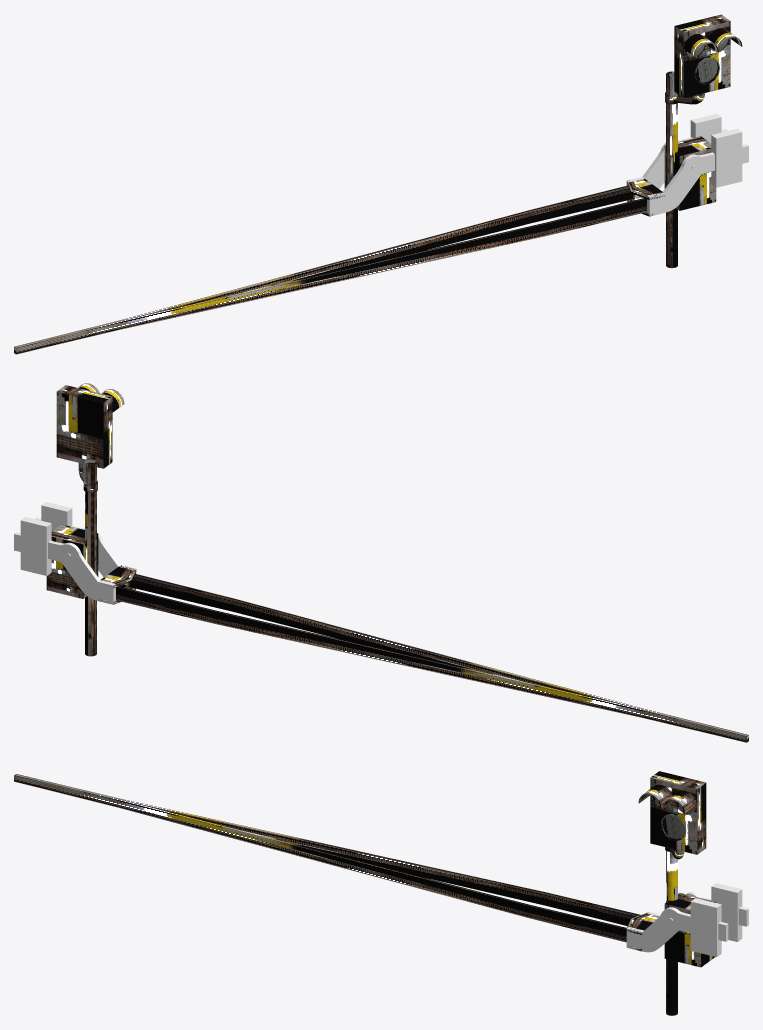
Rendered from LevelCrossing_LOD0.FBX.
3 views of the same model, one above another, from view 1: azimuth 30°, elevation 25°; view 2: azimuth 150°, elevation 25°; view 3: azimuth 330°, elevation 25° (orthographic).
Parts seen in each view (by area): view 1: Box004, Box005, Box006, Circle001, Cylinder001, Counterweight 001, Box001, Counterweight 002, Circle002; view 2: Box005, Box004, Box006, Circle002, Cylinder001, Counterweight 002, Box001, Counterweight 001, Circle001; view 3: Box004, Box005, Box006, Circle001, Counterweight 001, Box001, Cylinder001, Counterweight 002.
Part boxes in pixels (x1,y1,x2,y2): Box004: [15, 198, 646, 354]; Box005: [14, 185, 635, 353]; Box006: [674, 14, 742, 98]; Circle001: [647, 144, 748, 216]; Cylinder001: [666, 71, 677, 268]; Counterweight 001: [711, 128, 742, 187]; Box001: [664, 136, 716, 210]; Counterweight 002: [690, 113, 721, 142]; Circle002: [626, 129, 727, 197]; Box005: [116, 586, 747, 742]; Box004: [127, 574, 748, 741]; Box006: [56, 383, 124, 468]; Circle002: [14, 532, 115, 604]; Cylinder001: [85, 459, 96, 656]; Counterweight 002: [20, 517, 51, 575]; Box001: [46, 524, 98, 598]; Counterweight 001: [41, 502, 72, 531]; Circle001: [35, 517, 136, 585]; Box004: [14, 774, 626, 942]; Box005: [15, 774, 640, 925]; Box006: [638, 771, 706, 854]; Circle001: [626, 907, 728, 952]; Counterweight 001: [690, 898, 721, 956]; Box001: [664, 893, 716, 967]; Cylinder001: [666, 851, 677, 1015]; Counterweight 002: [711, 883, 742, 941].
Bounding box in the file's own units: 6900 × 2250 × 685.
